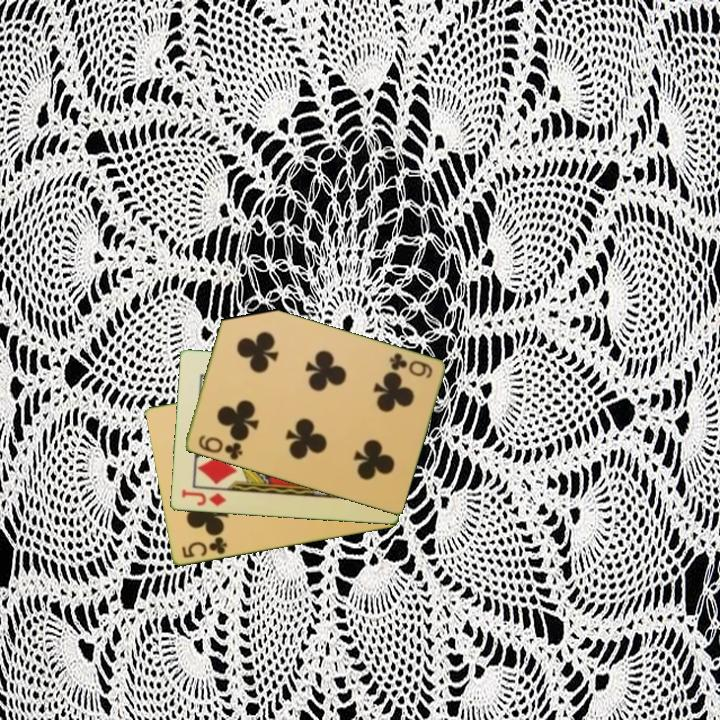5c: (178, 534, 230, 561)
6c: (385, 349, 435, 382), (194, 431, 245, 463)
Jd: (178, 486, 229, 509)
